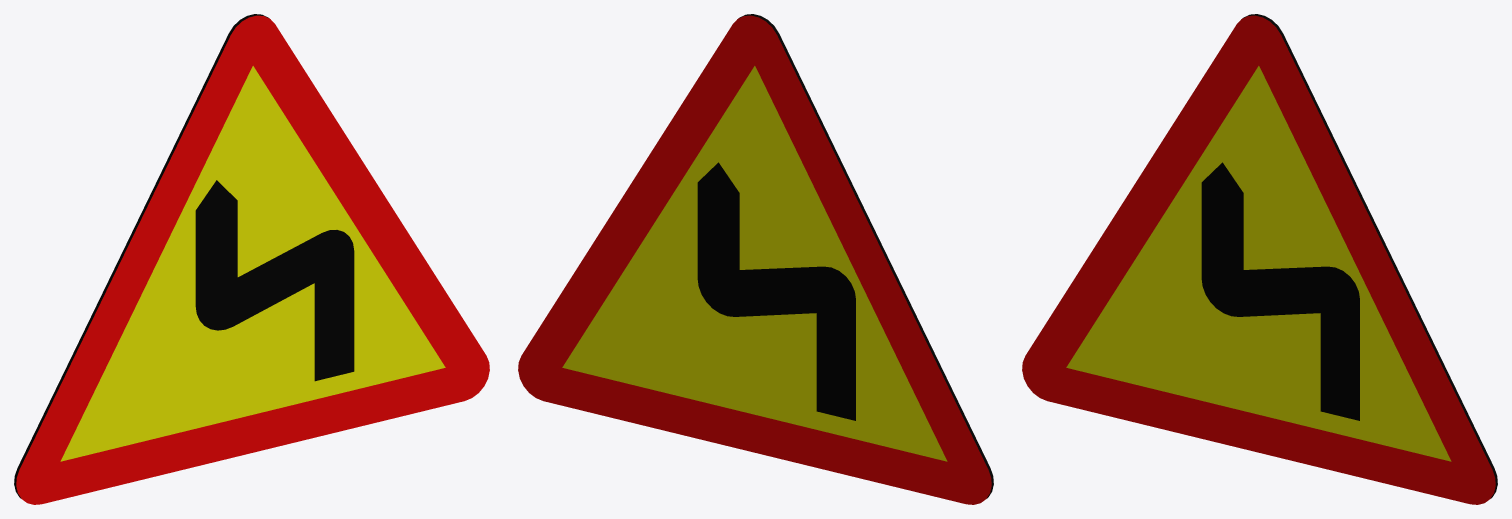
File: w.202a_nhieuchongoatnguyhiemlientiep.glb
The picture shows the model from 3 angles, left to right: view 1: azimuth 30°, elevation 25°; view 2: azimuth 150°, elevation 25°; view 3: azimuth 330°, elevation 25°; orthographic projection.
Visible parts, largest first — view 1: Solid3; view 2: Solid3; view 3: Solid3.
Part boxes in pixels (<box>): Solid3: <box>14,14,489,504</box>; Solid3: <box>518,14,993,504</box>; Solid3: <box>1022,14,1497,504</box>.
Bounding box in the file's own units: 0.6486 × 0.5708 × 0.005.
